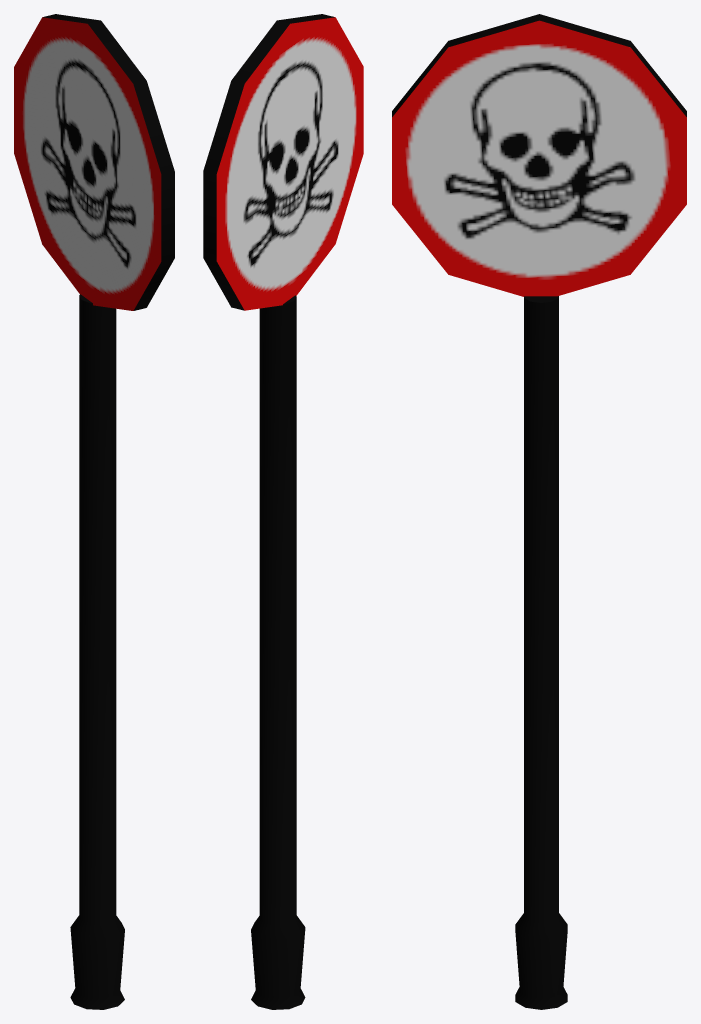
The picture shows the model from 3 angles, left to right: view 1: azimuth 30°, elevation 25°; view 2: azimuth 150°, elevation 25°; view 3: azimuth 270°, elevation 25°; orthographic projection.
Visible parts, largest first — view 1: Cylinder002; view 2: Cylinder002; view 3: Cylinder002.
Boxes of the visible parts, box(x1,y1,x2,y2) form: Cylinder002: box(14, 14, 174, 1009); Cylinder002: box(203, 14, 363, 1009); Cylinder002: box(392, 14, 686, 1009).
Size of the model in its own units: 1.42 by 27.86 by 7.61.
